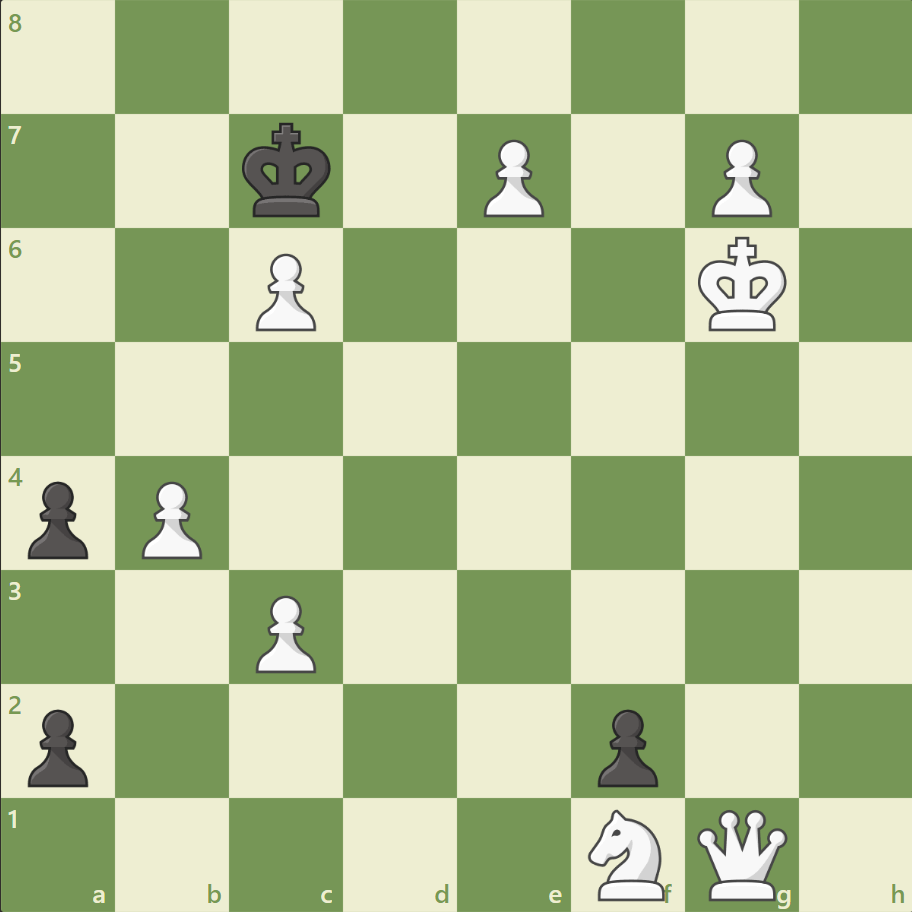K: (692, 231, 792, 339)
N: (579, 802, 676, 904)
P: (474, 132, 549, 223), (701, 132, 776, 223), (247, 246, 322, 337), (133, 473, 208, 564), (247, 586, 322, 677)
Q: (691, 804, 790, 903)
k: (238, 117, 338, 225)
p: (20, 473, 95, 564), (20, 700, 95, 791), (588, 700, 662, 791)
